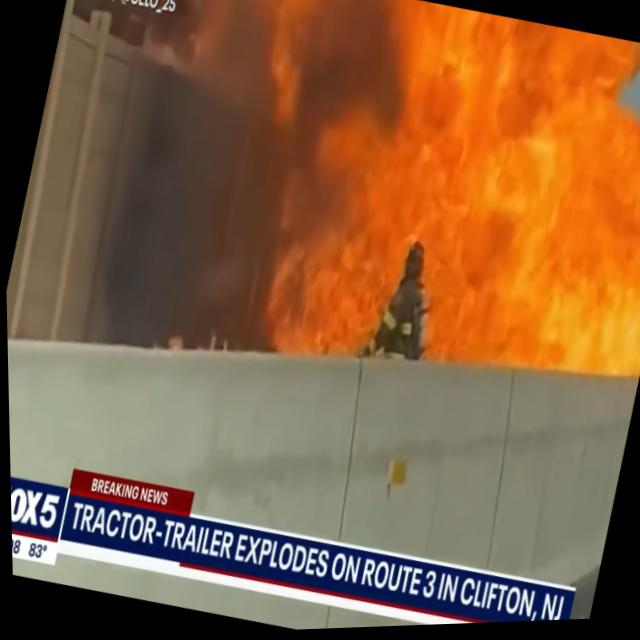Fire: (141, 0, 449, 363), (425, 71, 640, 404), (401, 3, 640, 296)
